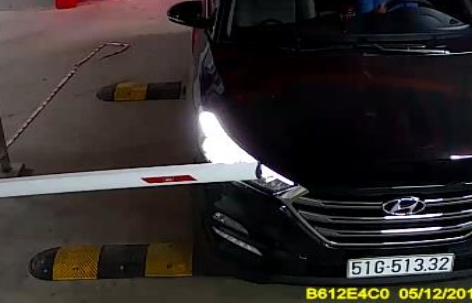plate: (347, 251, 453, 280)
